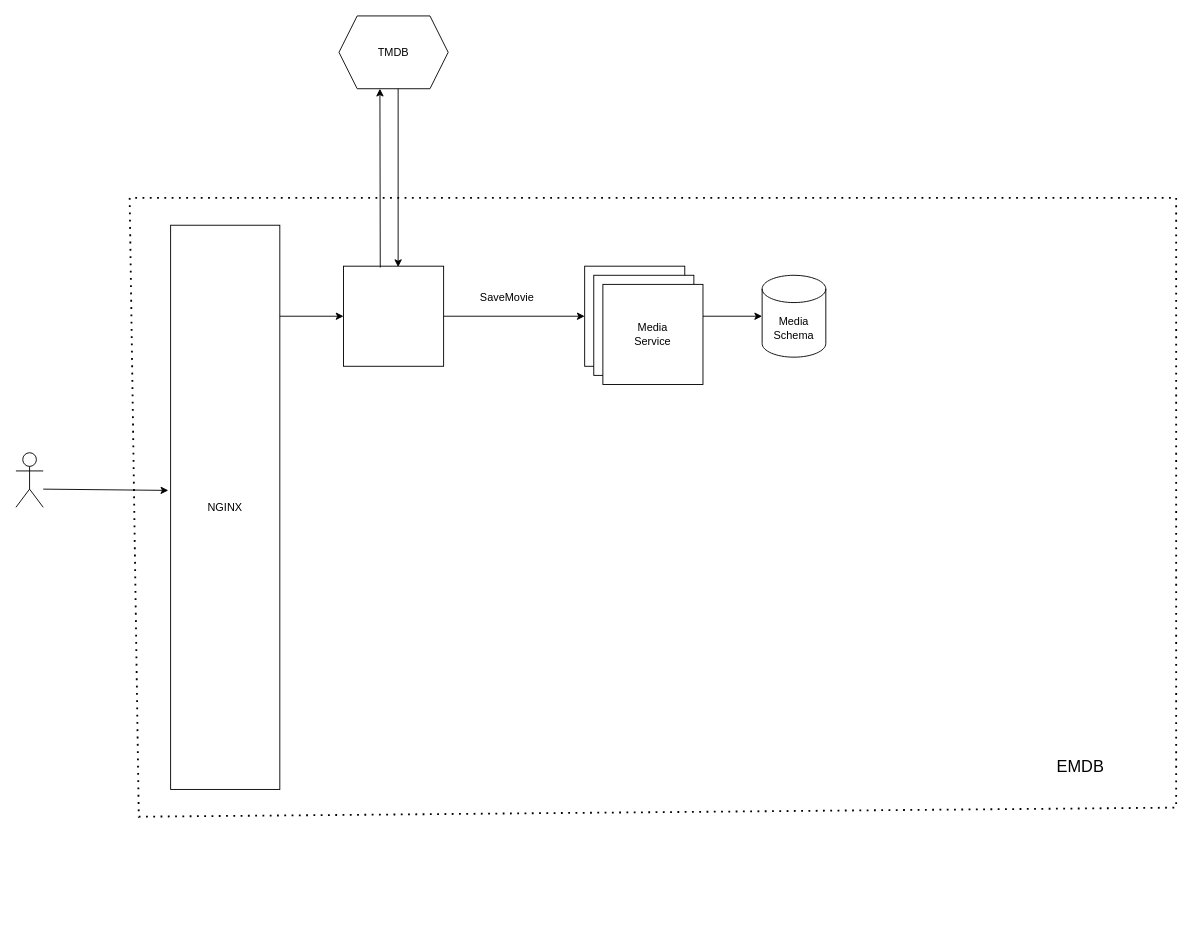
Image size: 1194x940. Some labels were removed from this diagram. The shapes that lost their labels are listed below. From the top down, each one's centre as x and y in pixels, then its label:
the point at 393,315: Ingest Service
the point at 29,479: Actor
